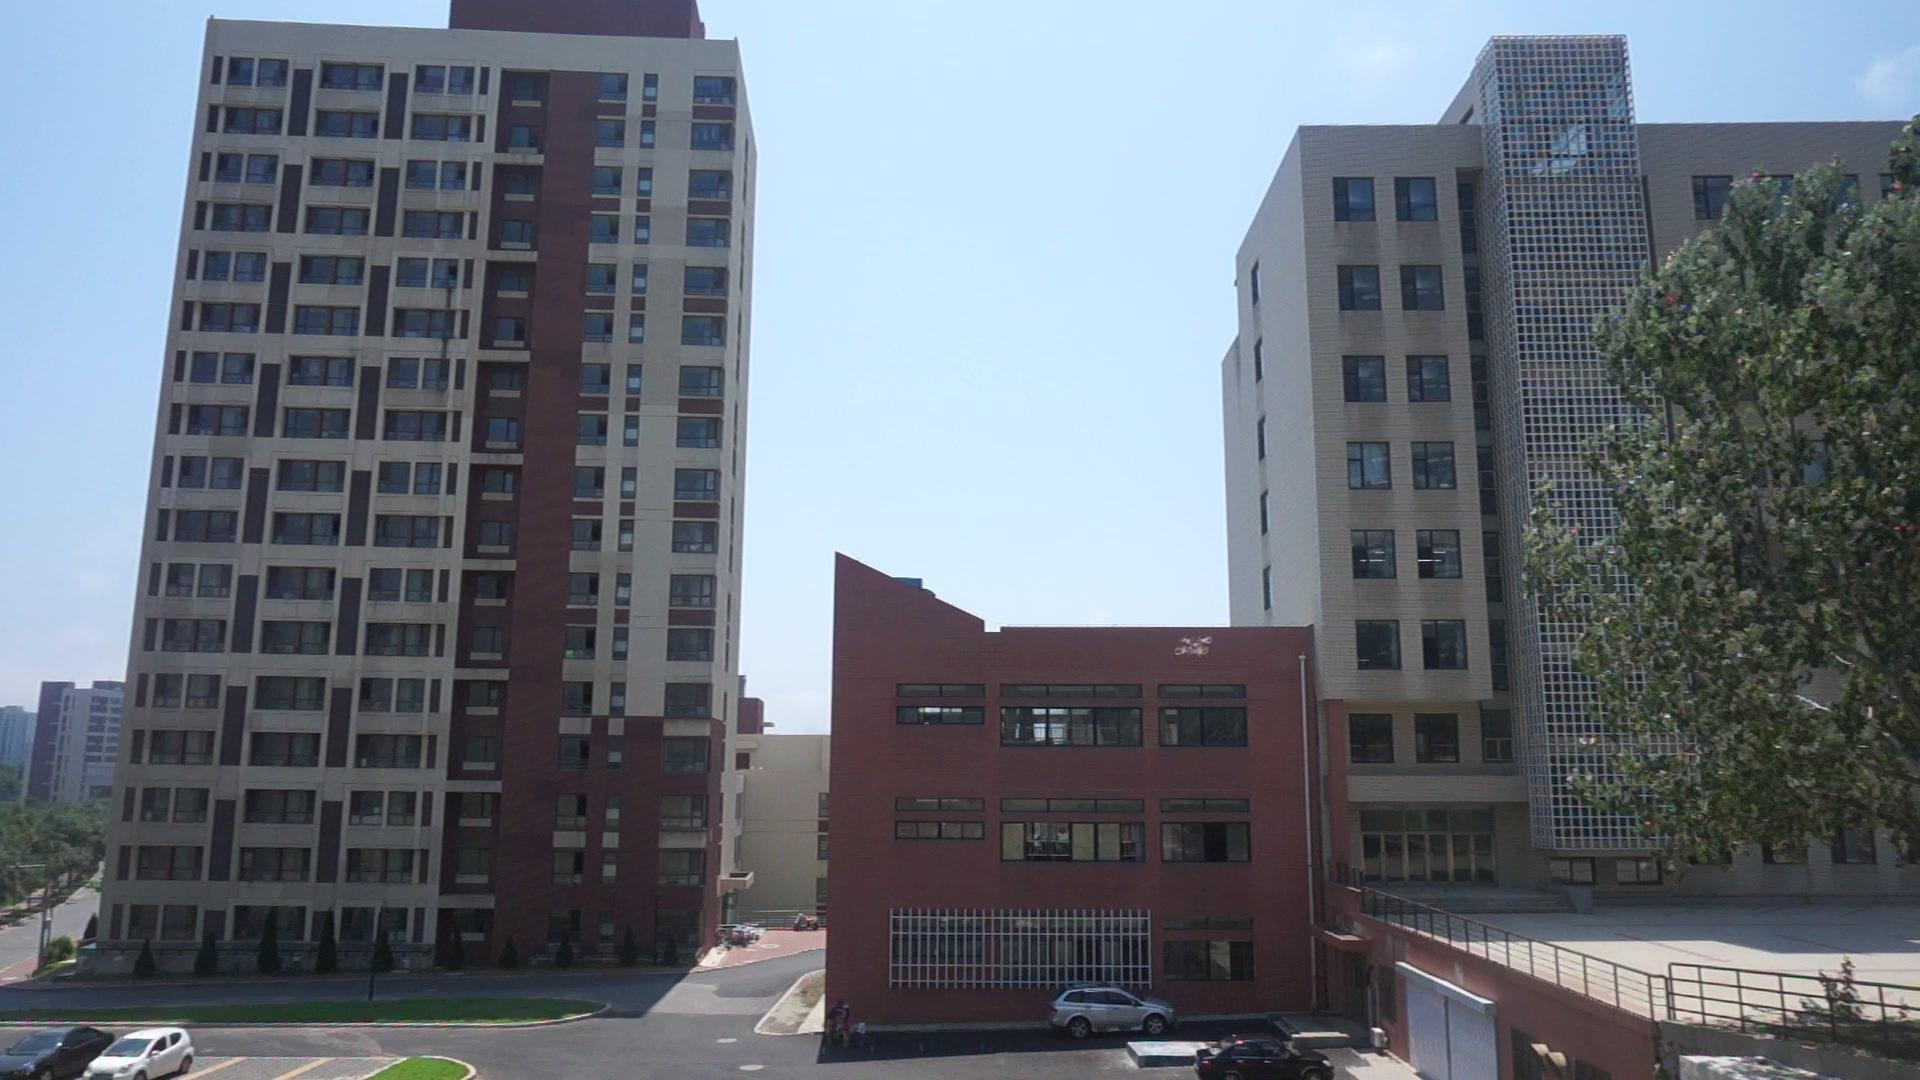UAV: (1174, 636, 1215, 659)
